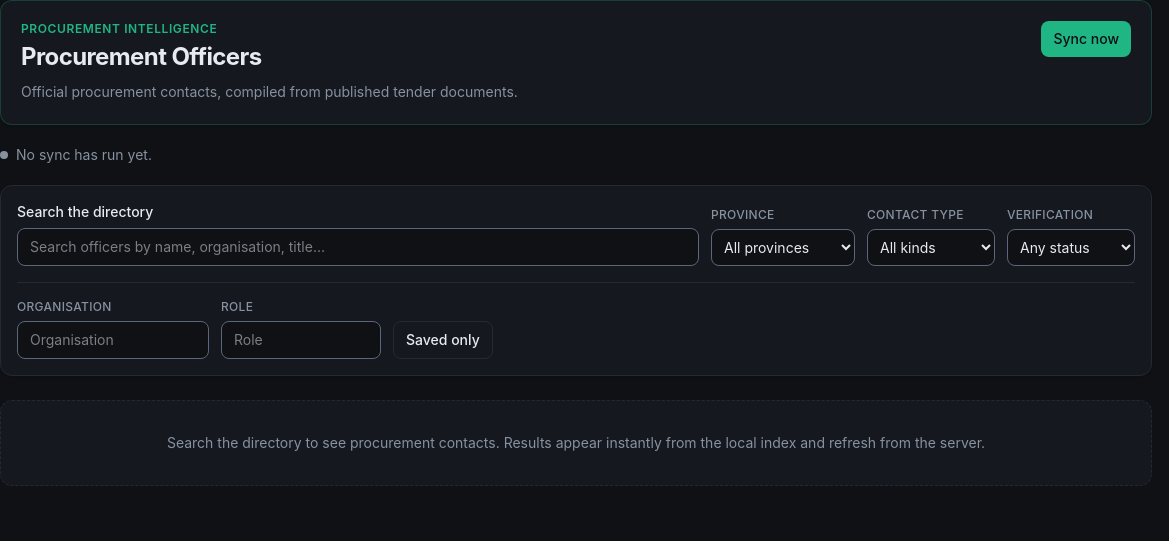
it: ProcurementOfficerDirectory shell › filters to saved officers only and shows an honest empty state
In the search field named "Search officers": (358, 247) [17,228,699,266], type "Mokoena"
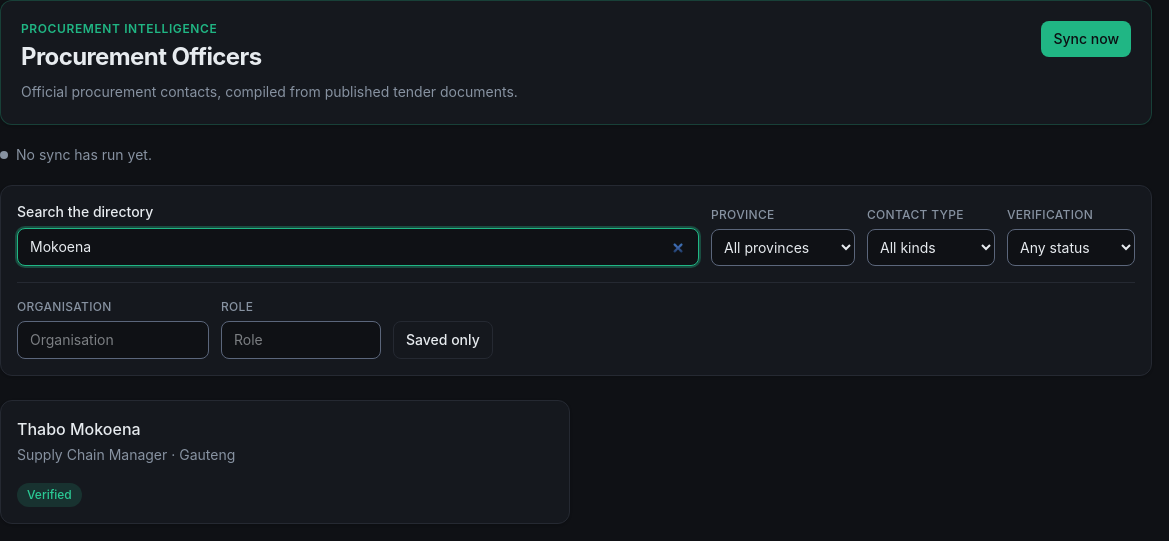
Check: the text "Thabo Mokoena" is shown, box [17,419,141,439]
Click the button "Saved only": click(443, 340) [393,321,493,359]
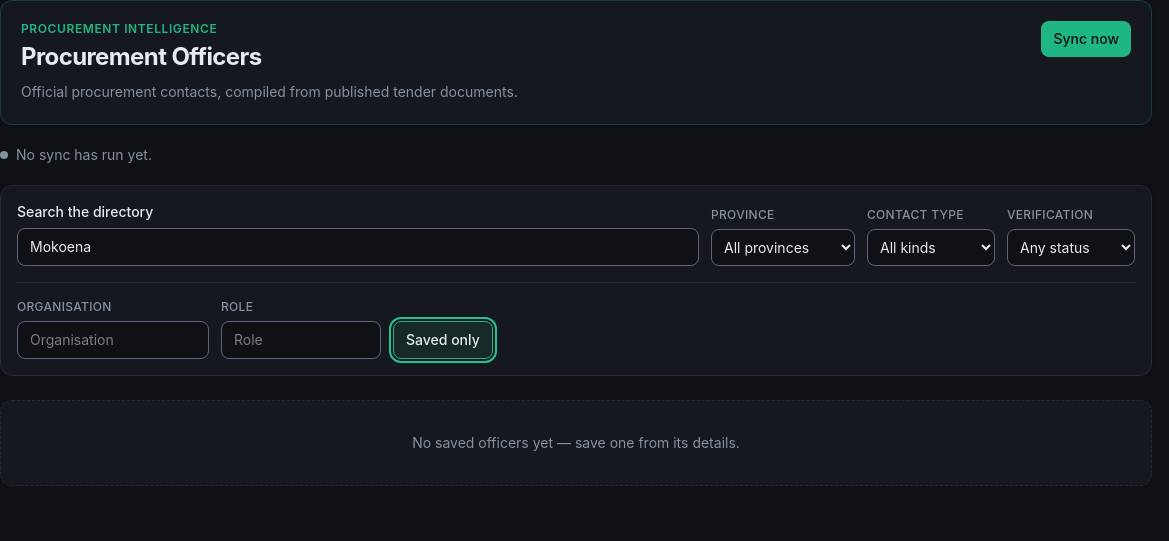
Check: the text "No saved officers yet — save one from its details." is shown, box [0,400,1152,486]
